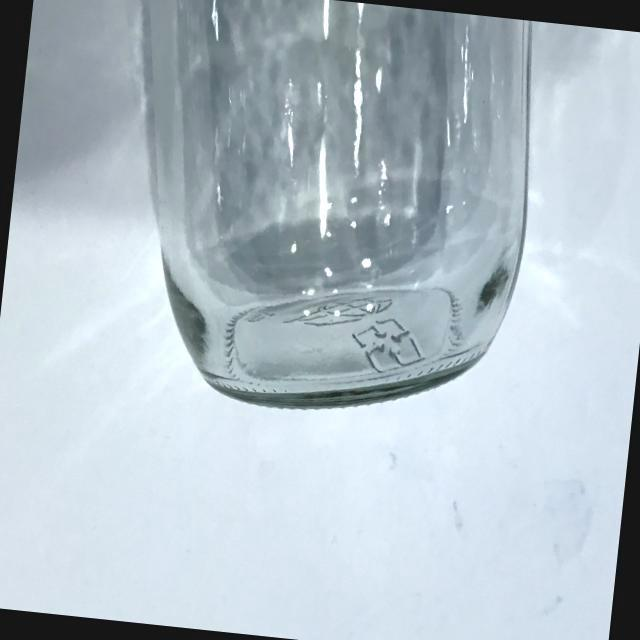glass: (87, 0, 564, 435)
